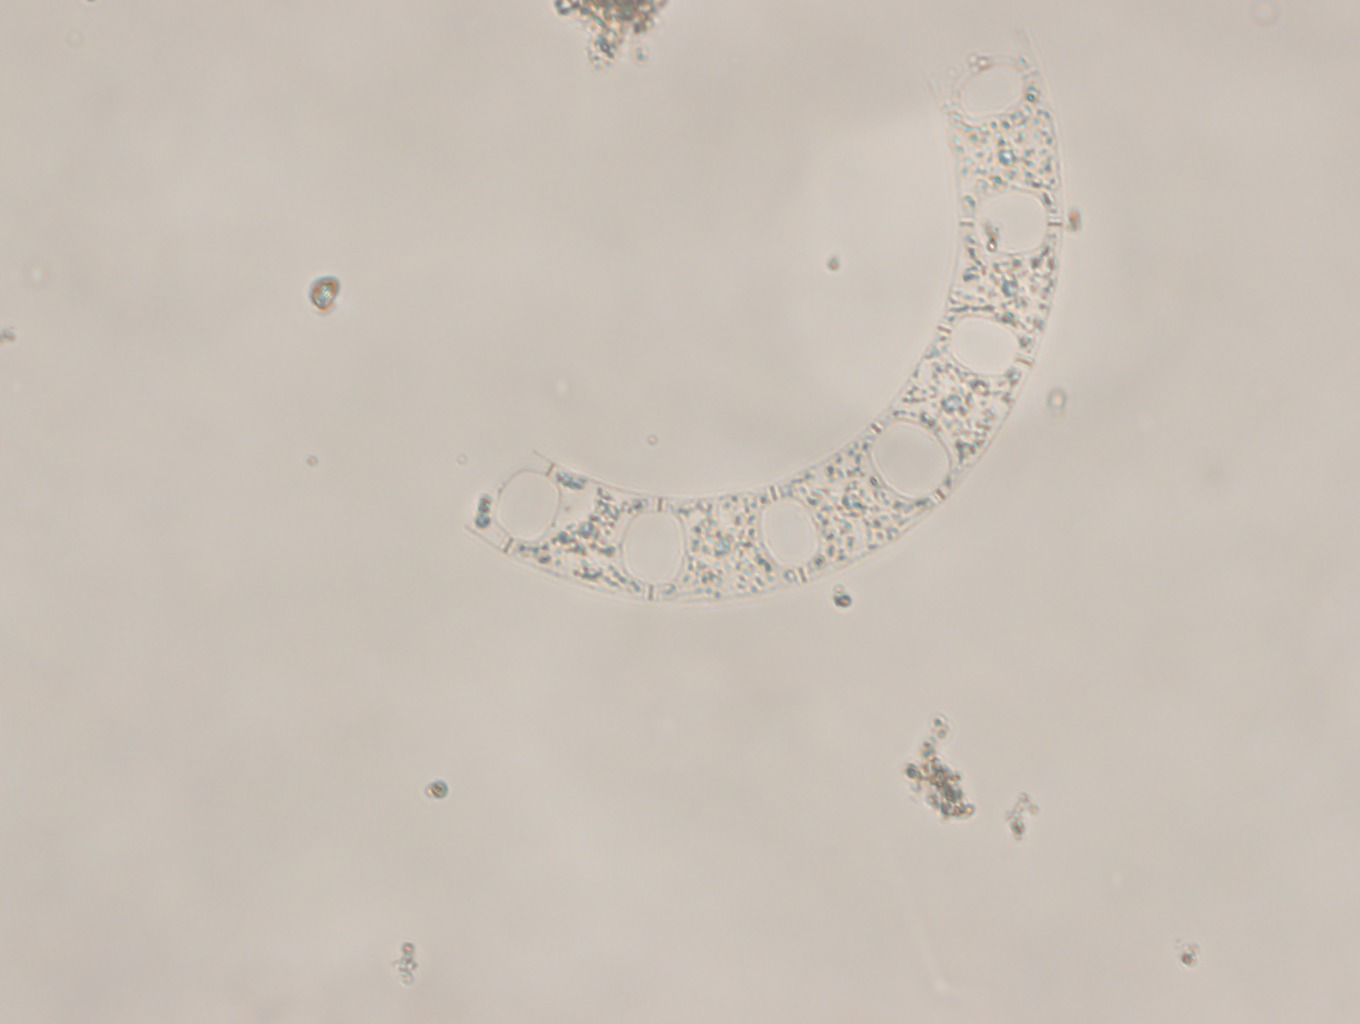eucampia: (436, 20, 1069, 605)
